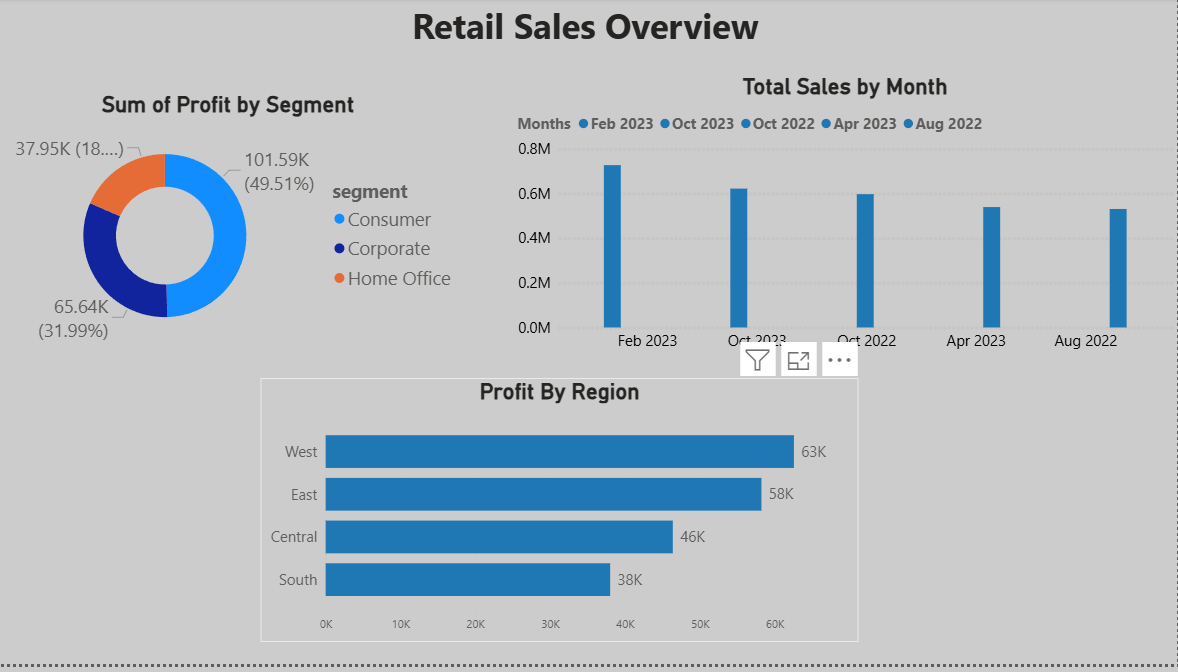

The dashboard page shown, as its layout file describes it:
{"tool":"powerbi","page":{"name":"Page 1","canvas":[1280,720],"ordinal":1},"visuals":[{"type":"textbox","box":[380.2,0,519.7,66.1],"z":0},{"type":"donutChart","title":"Sum of Profit by Segment","fields":{"Category":["df_orders (2).segment"],"Y":["Sum(df_orders (2).profit)"]},"box":[0,101.5,509.5,278.8],"z":1000},{"type":"lineClusteredColumnComboChart","title":"Total Sales by Month","fields":{"Series":["df_orders (2).MonthYear"],"Y":["df_orders (2).TotalSales"],"Category":["df_orders (2).MonthYear"]},"box":[561.2,83.1,718.2,310.2],"z":2000},{"type":"clusteredBarChart","title":"Profit By Region","fields":{"Category":["df_orders (2).region"],"Y":["df_orders (2).ProfitByRegion"]},"box":[289.8,411.7,646.2,284.3],"z":3000}]}

Visuals, with their boxes in screenshot pixels (x1, y1, x2, y2), scaled from the page's 1280x720 canvas onto the 1178x672 screenshot:
textbox: (350,0,828,62)
"Sum of Profit by Segment" donutChart: (0,95,469,355)
"Total Sales by Month" lineClusteredColumnComboChart: (516,78,1177,367)
"Profit By Region" clusteredBarChart: (267,384,861,650)
